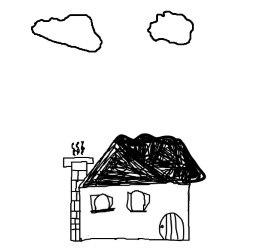bottom_placed_house: (0, 0, 260, 250)
clouds: (27, 7, 109, 60), (140, 5, 200, 51)
door: (157, 208, 188, 245)
open_window: (88, 191, 117, 218), (125, 188, 153, 215)
shaded_roof: (77, 126, 216, 190)
small_house: (2, 4, 260, 250)
smoking_chimney: (53, 131, 100, 188)
wall: (74, 180, 192, 245)
